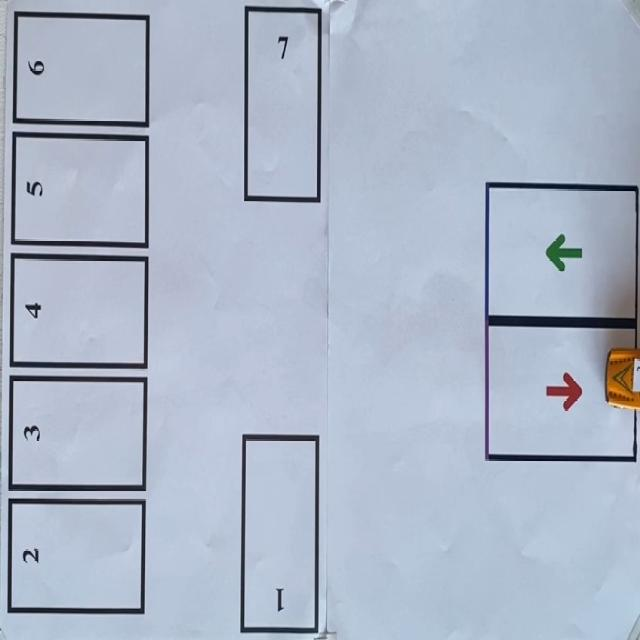car: (605, 348, 639, 409)
